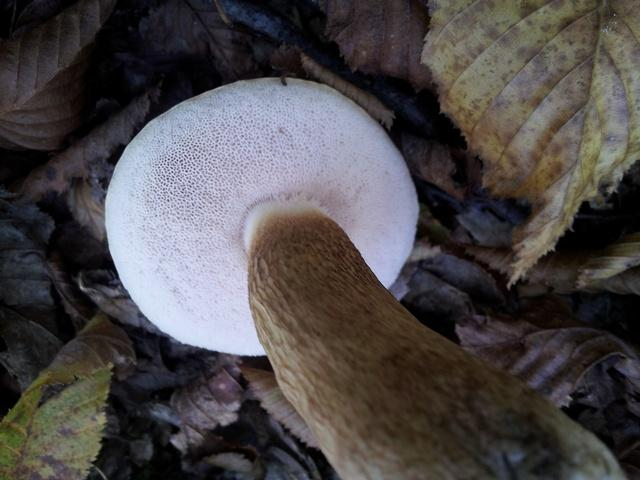Non-edible Mushroom: (102, 74, 629, 480)
